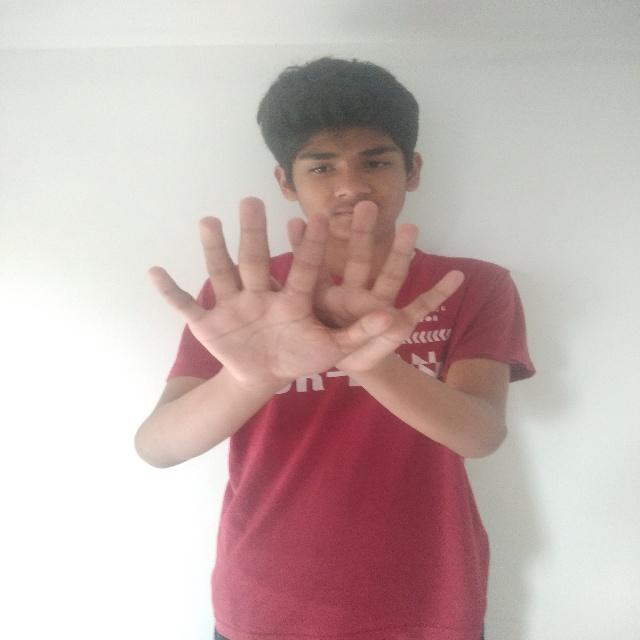Moutza: (144, 193, 395, 407), (251, 199, 469, 391)
